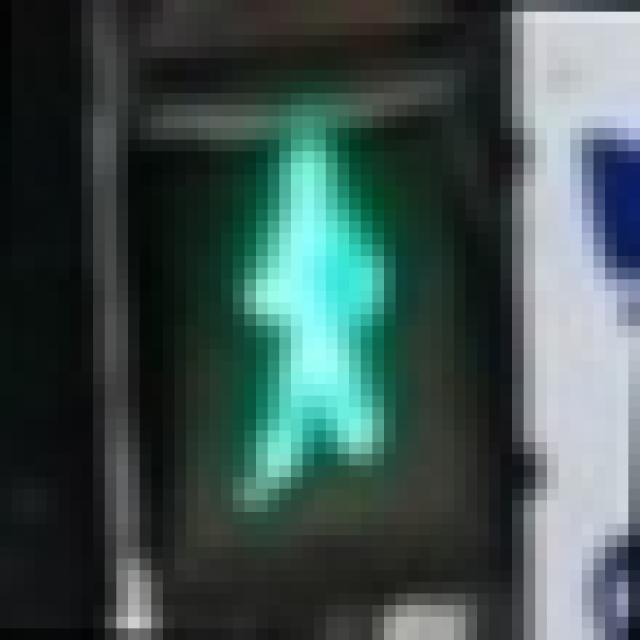geen-crossing: (116, 81, 477, 512)
